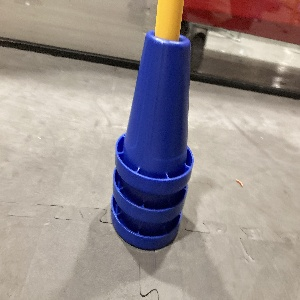Blue_3: (110, 27, 193, 250)
